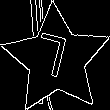L_S: (35, 31, 77, 88)
